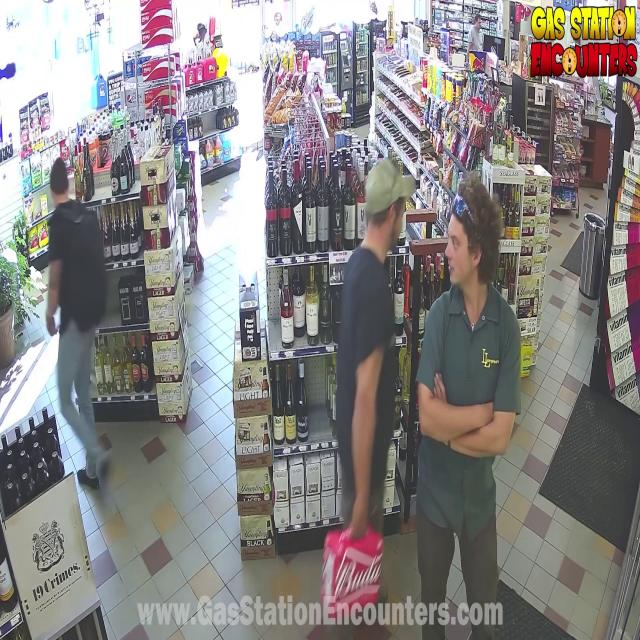Product: (323, 528, 386, 628)
normal: (402, 178, 548, 640), (32, 128, 139, 515)
shoplifting: (292, 164, 430, 634)
